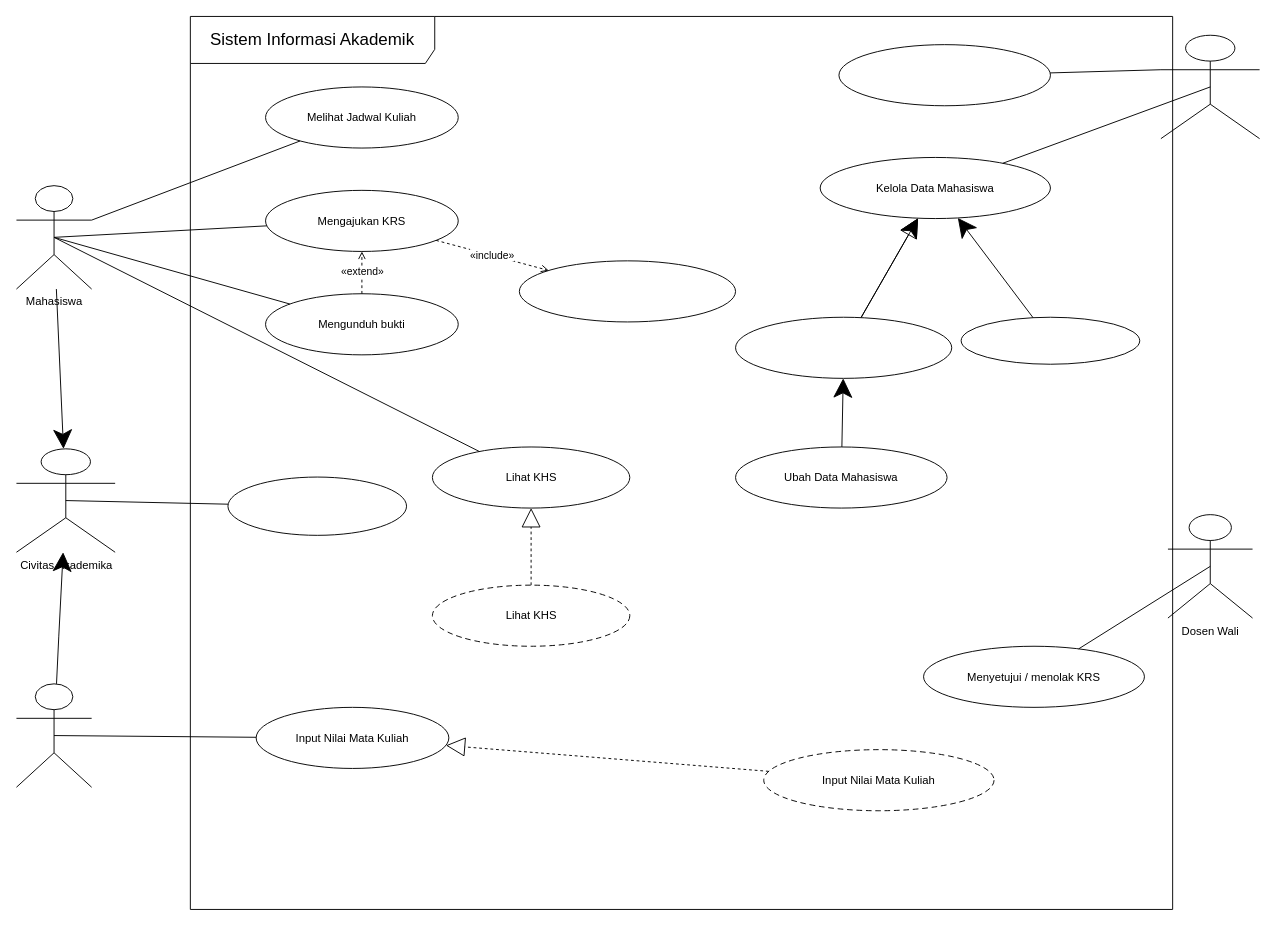
Image size: 1277x926. Some labels were removed from this diagram. The shapes that lost their labels are listed below. From the top down, each one's centre as x and y in pixels, then its label:
[944,75]: Mengelola jadwal kuliah
[1210,86]: Admin Akademik
[627,291]: Sistem Memvalidasi KRS
[843,347]: Tambah Data Mahasiswa
[1050,340]: Hapus Data Mahasiswa
[317,505]: Lihat Kalender Akademik
[54,735]: Dosen
